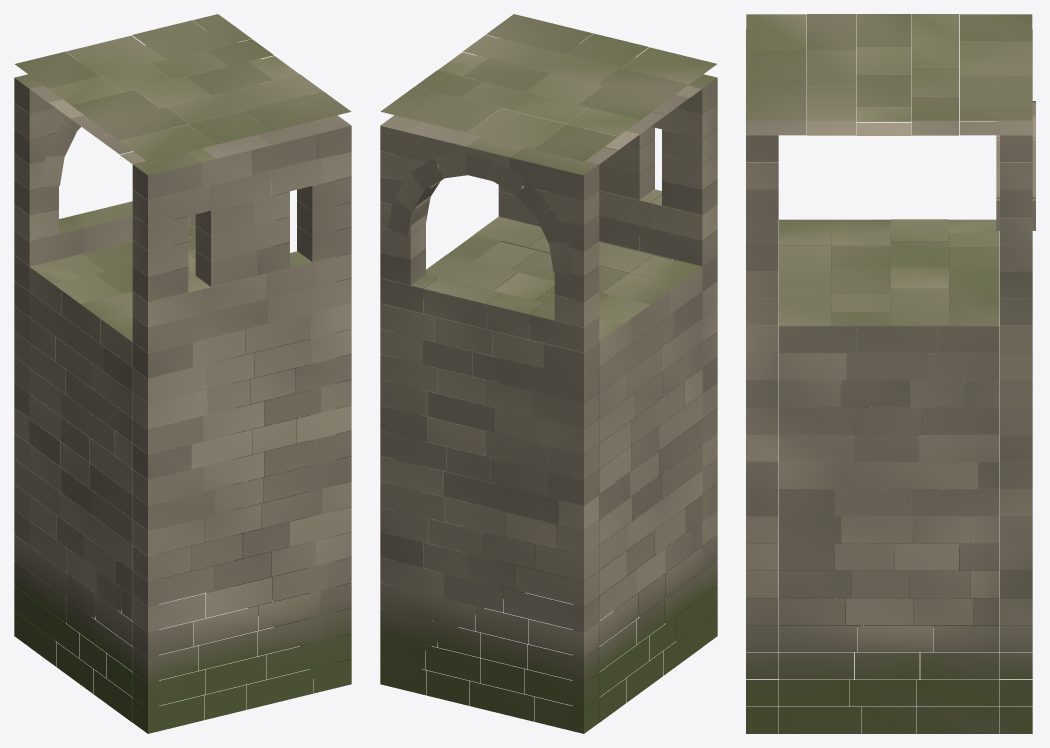
The model's file is citadel_wall_gallery_mid.glb.
3 views of the same model, side by side, from view 1: azimuth 30°, elevation 25°; view 2: azimuth 150°, elevation 25°; view 3: azimuth 270°, elevation 25° (orthographic). The views are drawn at different scales.
Visible parts, largest first — view 1: citadel_wall_gallery_mid; view 2: citadel_wall_gallery_mid; view 3: citadel_wall_gallery_mid.
Boxes of the visible parts, x1,y1,x2,y2 form: citadel_wall_gallery_mid: (14, 14, 351, 733); citadel_wall_gallery_mid: (380, 14, 717, 733); citadel_wall_gallery_mid: (746, 14, 1035, 733).
Bounding box in the file's own units: 18.5 × 49.6 × 21.25.
